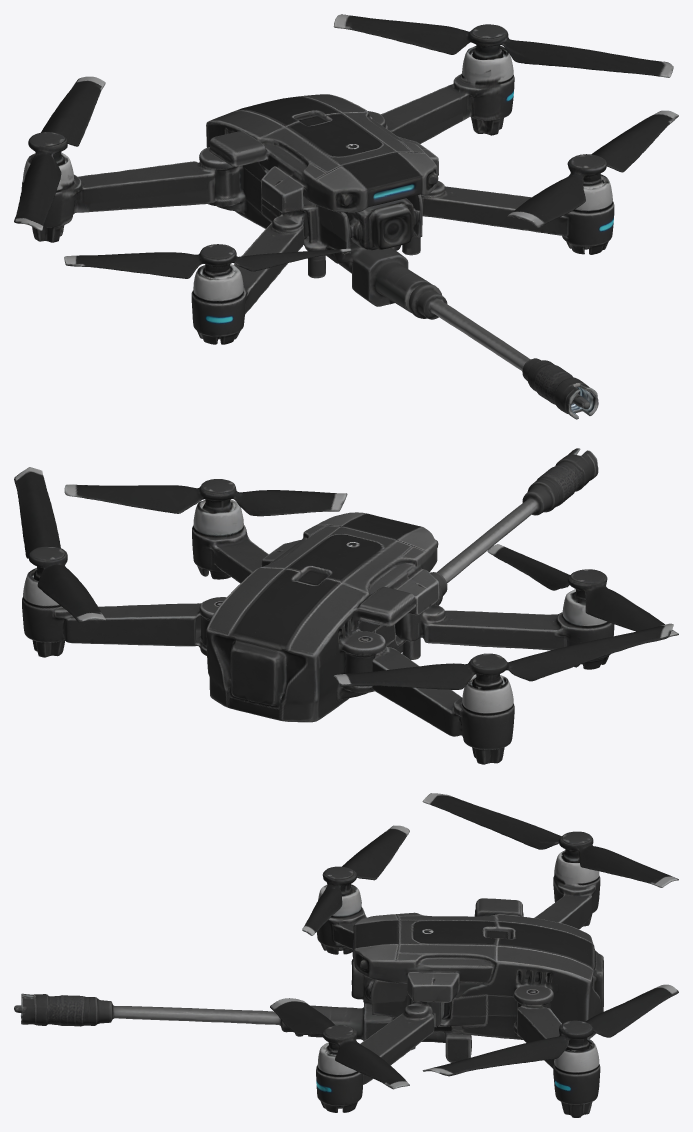
File: drone2.glb
3 views of the same model, one above another, from view 1: azimuth 30°, elevation 25°; view 2: azimuth 150°, elevation 25°; view 3: azimuth 270°, elevation 25° (orthographic). The views are drawn at different scales.
Parts seen in each view (by area): view 1: mesh_node; view 2: mesh_node; view 3: mesh_node.
Part boxes in pixels (x1,y1,x2,y2): mesh_node: (14,14,678,419); mesh_node: (14,448,678,764); mesh_node: (14,793,678,1117).
Size of the model in its own units: 1.9 by 0.3664 by 1.9.
1 material, 1 textured.
